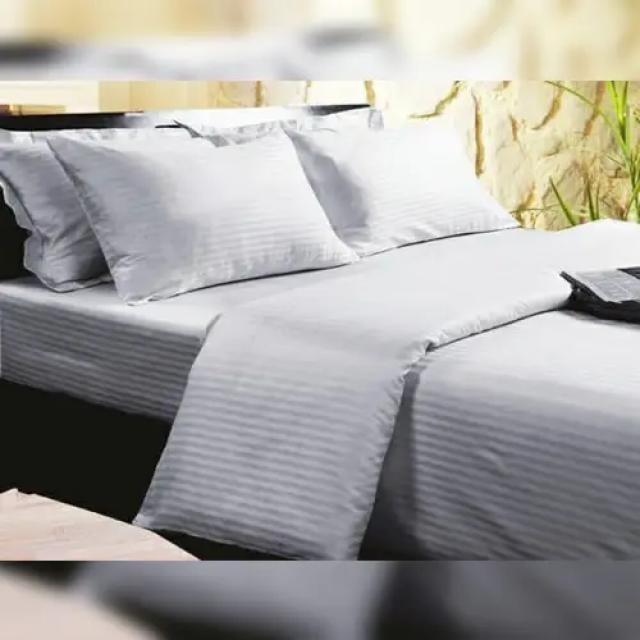bed: (0, 87, 639, 561)
